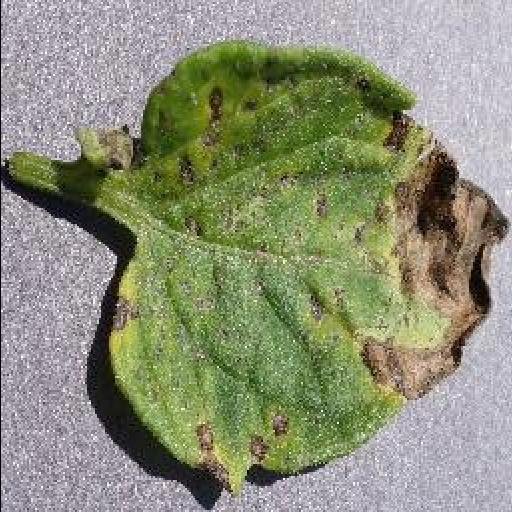disease_tomato: (106, 42, 508, 500)
